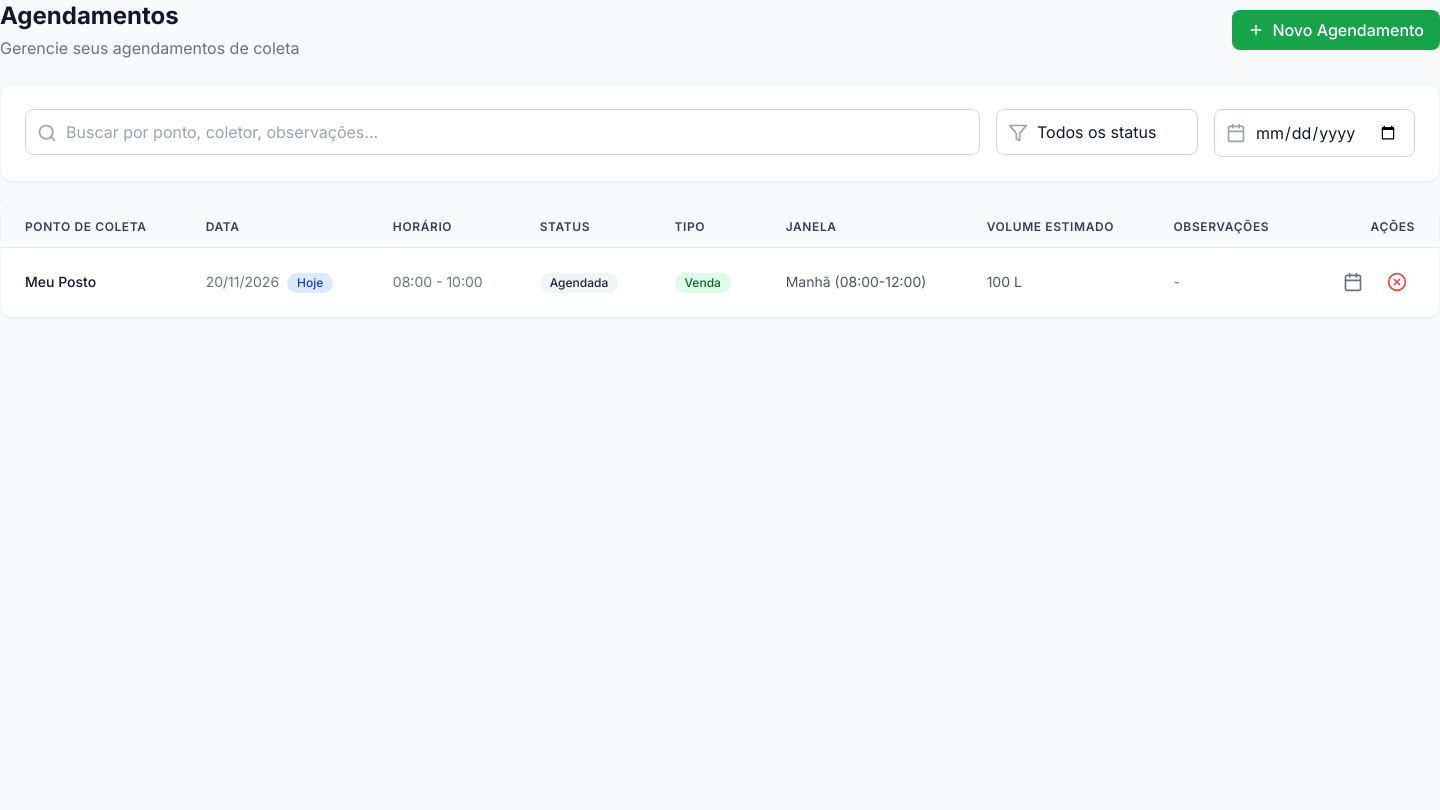
Test: SchedulesPage › for ESTABLISHMENT role › opens cancel modal with 2-hour warning for establishment
Click cancel button for the schedule
Click the button titled "Cancelar".
click(1397, 282)  # box [1379,264,1415,300]
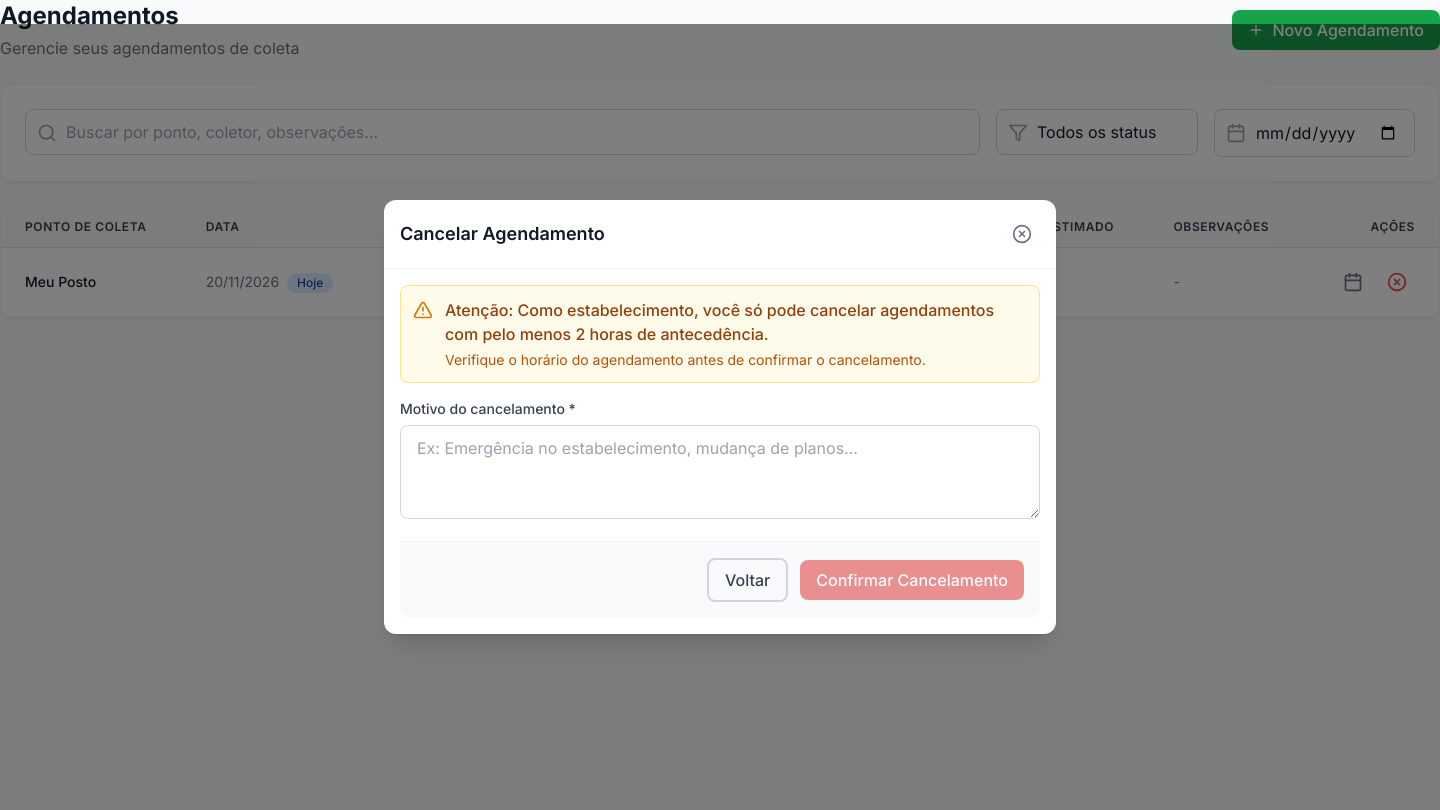
Check: the heading "Cancelar Agendamento" is shown, box [400,220,605,248]
Check: the text "pelo menos 2 horas de antecedência" is shown, box [445,300,994,344]
